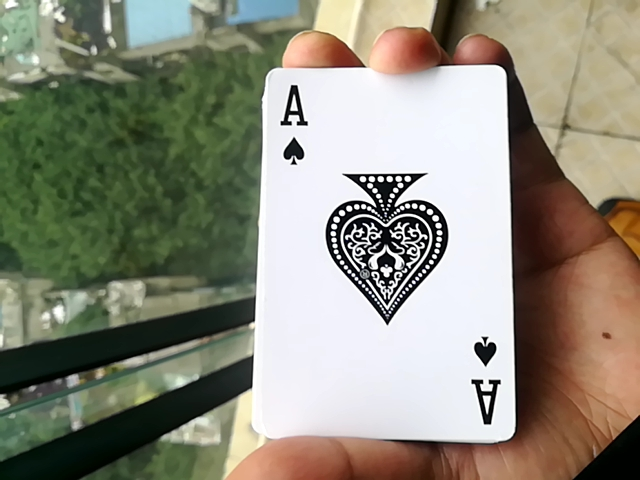ht a: (239, 75, 517, 452)
